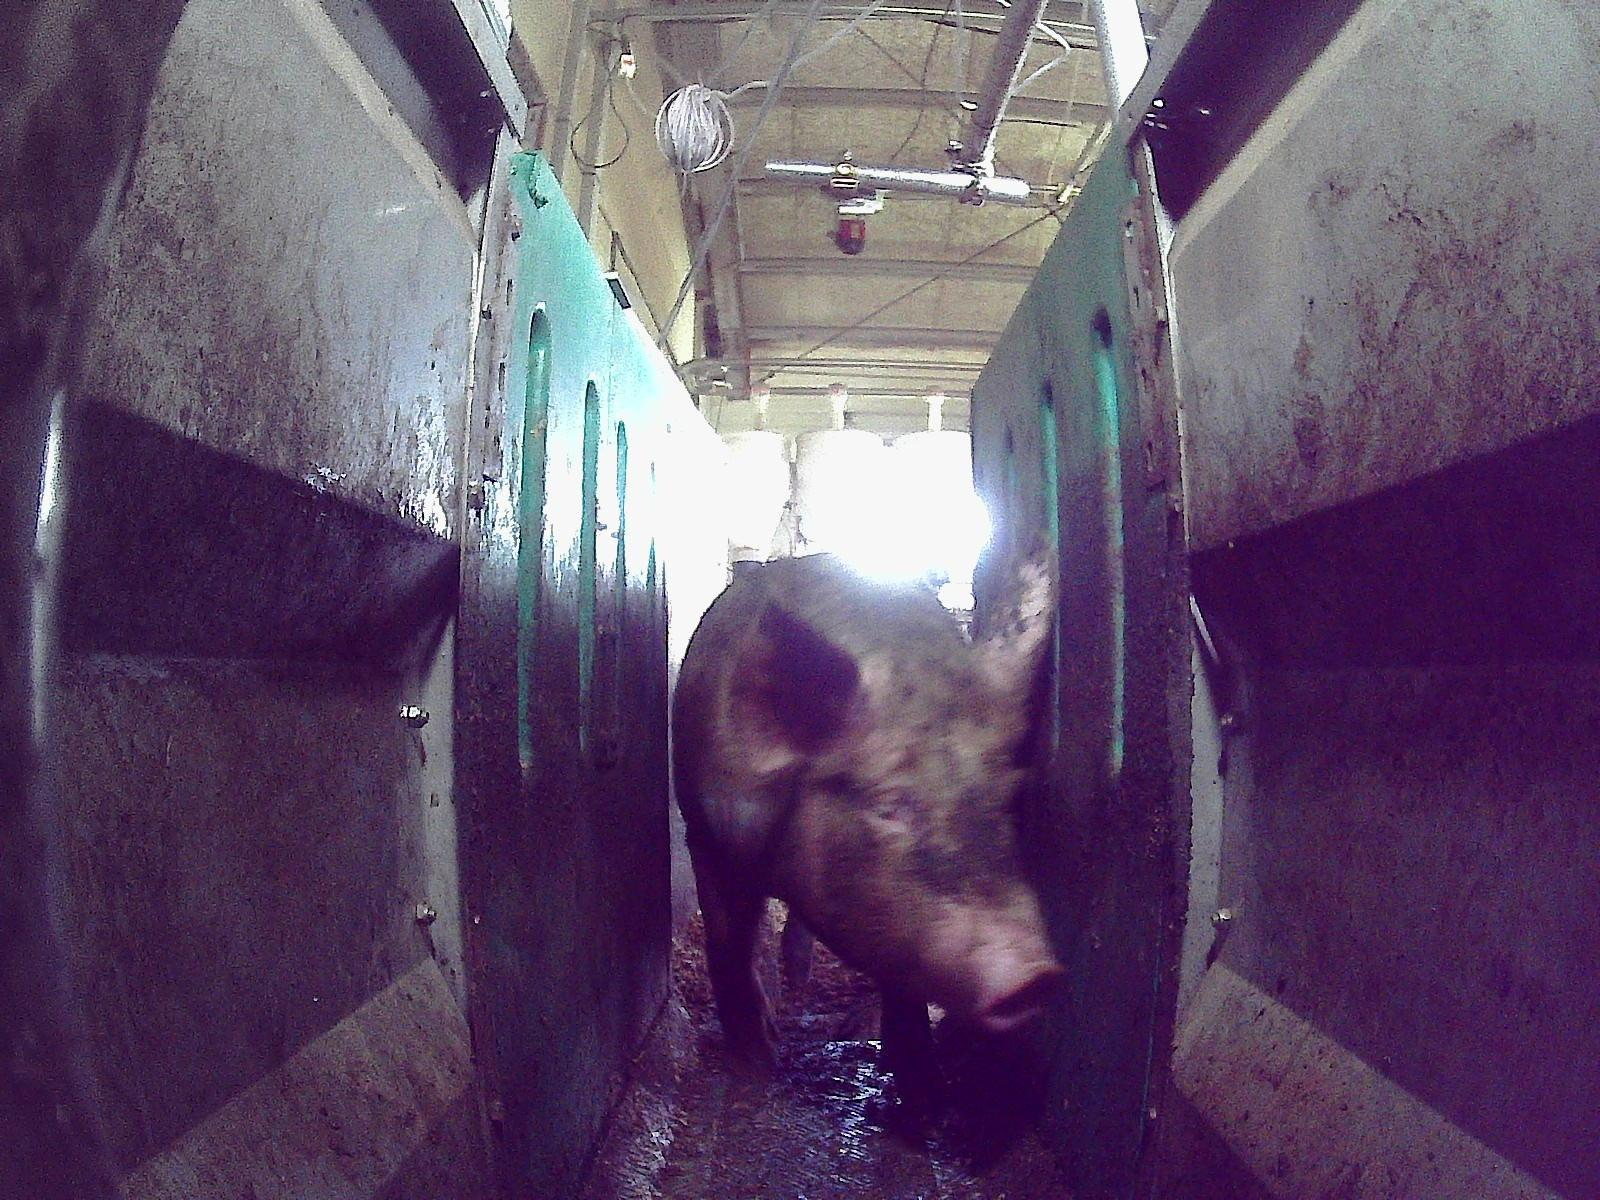Face: (809, 665, 1067, 1030)
